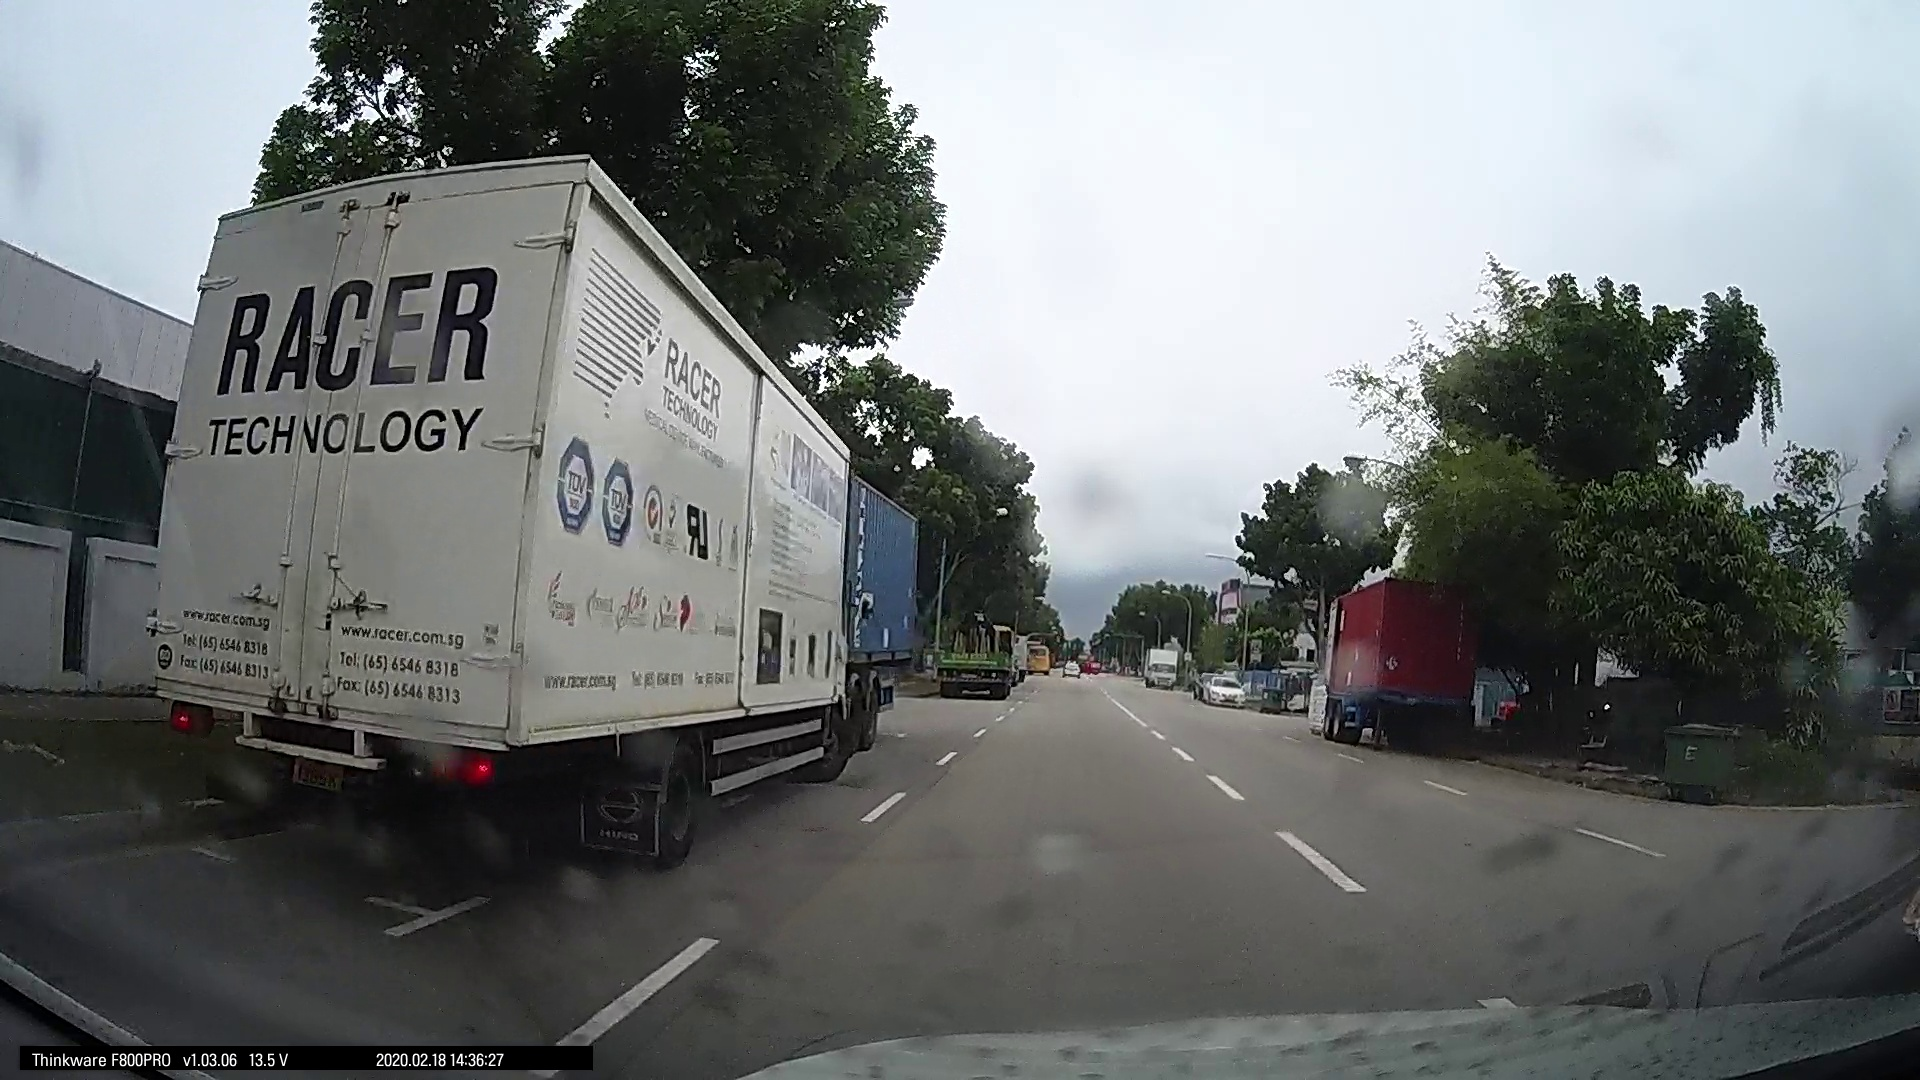Heavy Vehicle: (160, 137, 869, 876), (1307, 570, 1498, 756), (935, 618, 1011, 696)
Light Vehicle: (1191, 665, 1246, 707)
